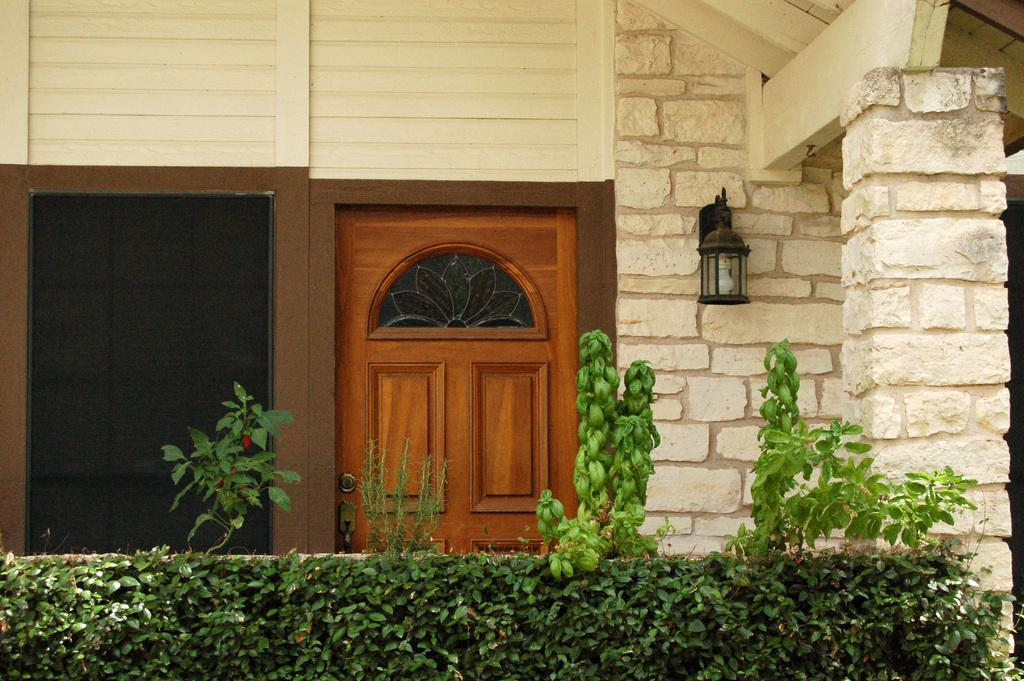door: (336, 216, 566, 544)
handle: (340, 503, 354, 547)
